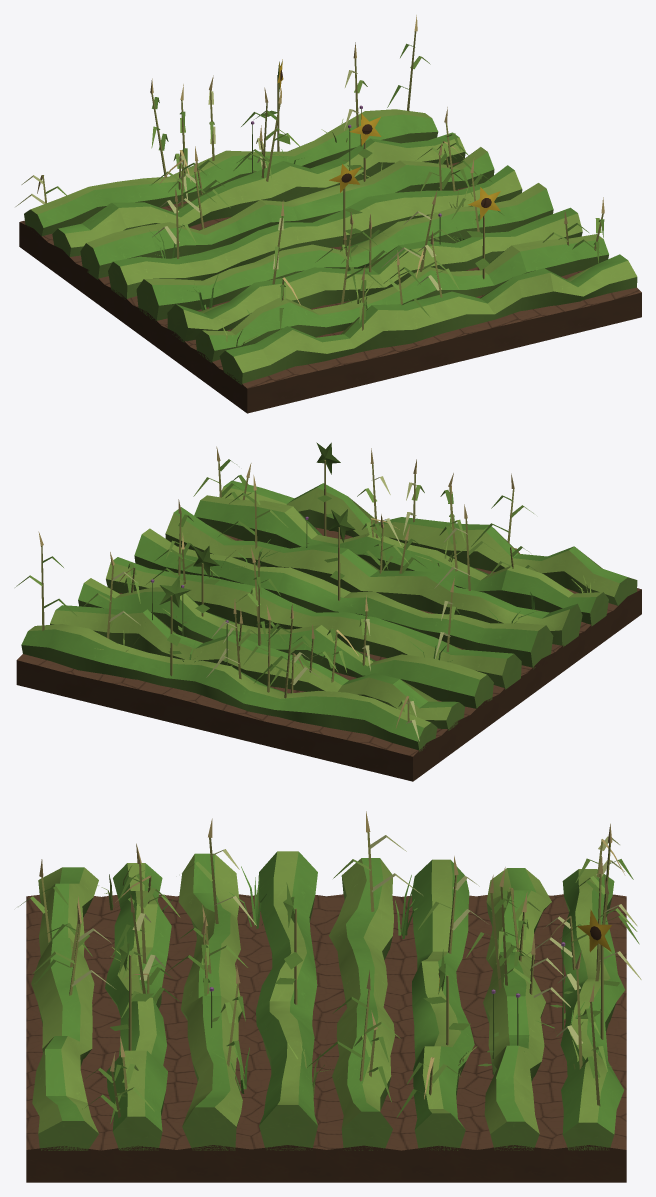
File: field_overgrown.glb
The picture shows the model from 3 angles, top to bottom: view 1: azimuth 30°, elevation 25°; view 2: azimuth 150°, elevation 25°; view 3: azimuth 270°, elevation 25°; orthographic projection. The views are drawn at different scales.
Visible parts, largest first — view 1: field_overgrown; view 2: field_overgrown; view 3: field_overgrown.
Part boxes in pixels (box(x1,y1,x2,y2)): field_overgrown: box(15, 15, 641, 413); field_overgrown: box(15, 442, 641, 781); field_overgrown: box(18, 811, 641, 1182).
Bounding box in the file's own units: 8.32 × 2.85 × 8.37.
Materials: 13 (13 with a texture image).
